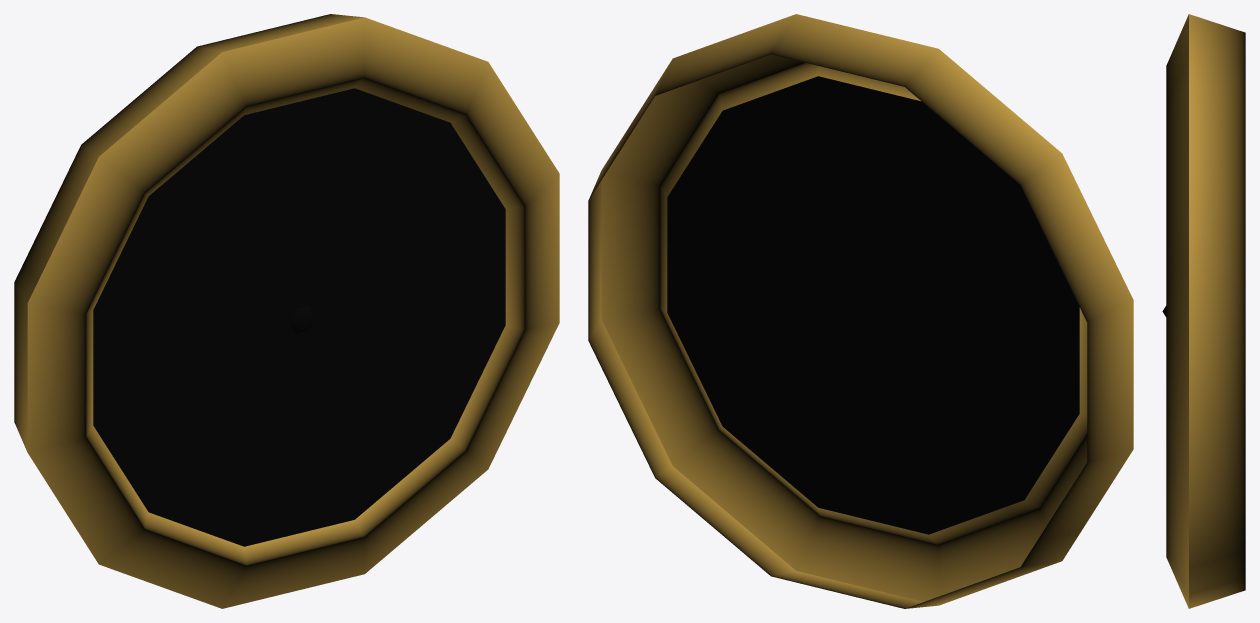
File: clock.glb
The picture shows the model from 3 angles, left to right: view 1: azimuth 30°, elevation 25°; view 2: azimuth 150°, elevation 25°; view 3: azimuth 270°, elevation 25°; orthographic projection. The views are drawn at different scales.
Visible parts, largest first — view 1: enamel, brass, dark; view 2: enamel, brass; view 3: brass.
Boxes of the visible parts, x1,y1,x2,y2 form: enamel: (93, 88, 505, 546); brass: (14, 14, 559, 608); dark: (107, 114, 493, 522); enamel: (667, 76, 1079, 534); brass: (588, 14, 1133, 608); brass: (1162, 14, 1245, 608).
Size of the model in its own units: 0.3091 by 0.3091 by 0.044.
